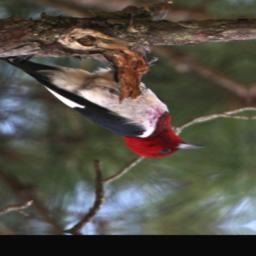Woodpecker: (0, 50, 212, 165)
